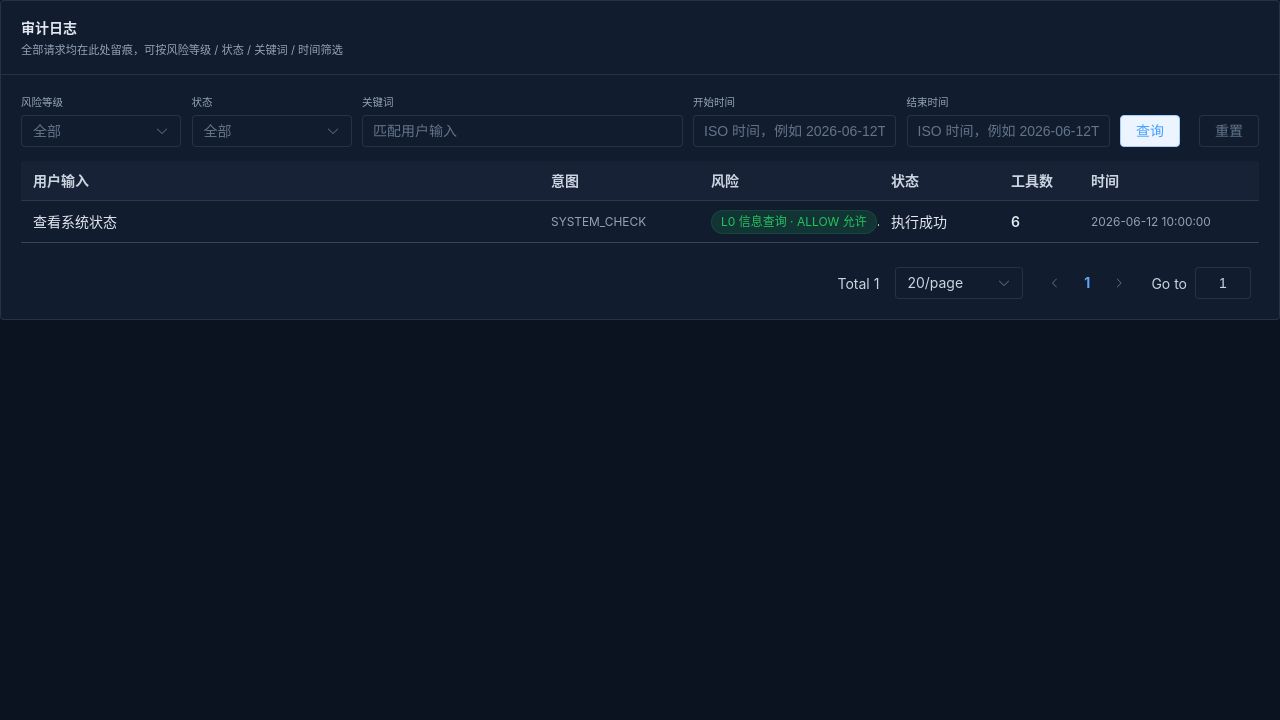
Test case: AuditLog page — detail drawer › renders notification records card when detail has notificationRecords
Click the text with test id "audit-row-a-notif" at (75, 221), box [33,213,117,230]
(page scrolled)
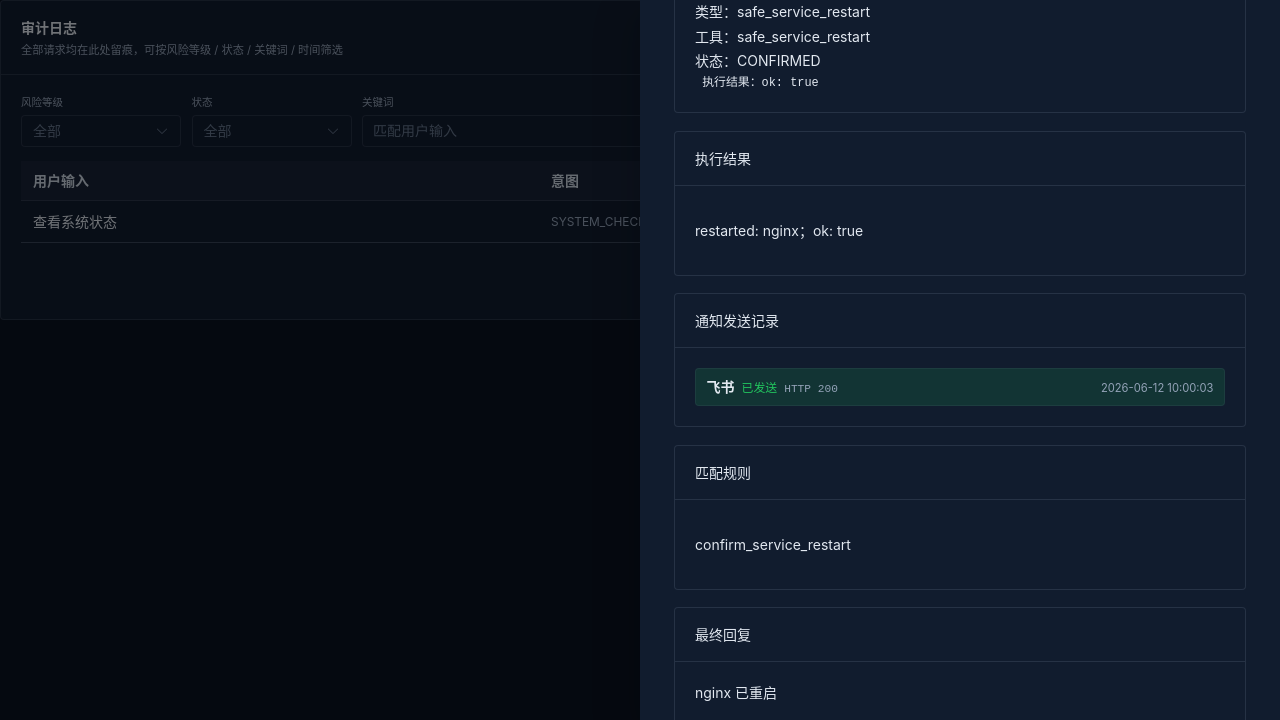
Now the dialog with test id "audit-detail-drawer" is shown, box [640,0,1279,719]
Now the element with test id "audit-notification-records" is shown, box [674,293,1246,427]
Now the text "飞书" is shown, box [706,376,734,397]
